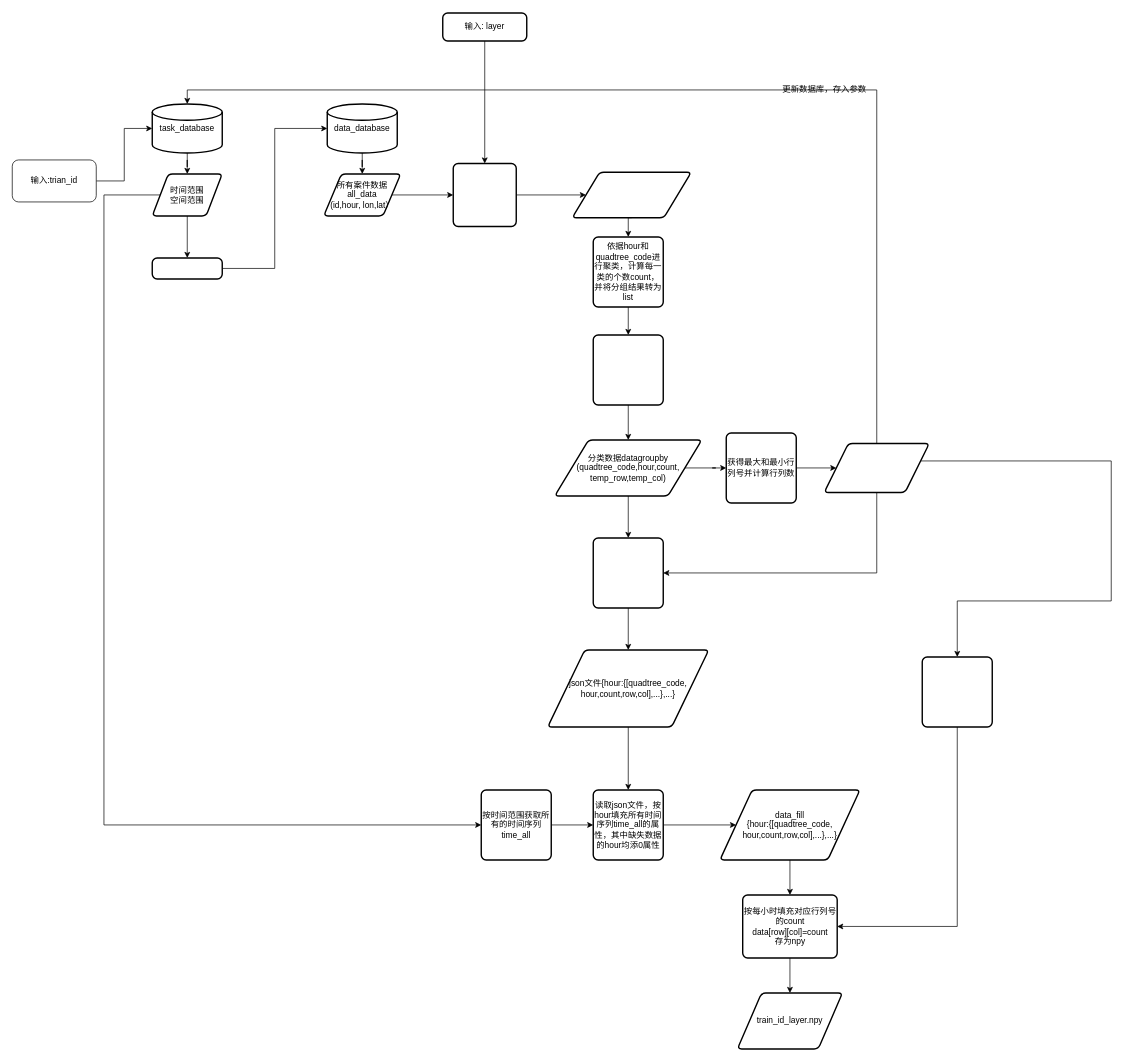
This 1129x1061 diagram has some shape labels left out. The centre of each missing label's shape, as x and y in pixels:
所有案件数据alldata (id,hour,lon,lat, quadtree_code): pixel 631 194
按layer对alldata进行四叉树编码: pixel 484 194
按时间序列time_all中的小时数length,行数r_num,列数c_num初始化0矩阵 data_matrix: pixel 957 691
改变数据中的行列号属性使其从0开始，并对其按时间进行排序，按时间存入json: pixel 628 572
最小行号r_min, 最小列号c_min， 行数r_num, 列数c_num: pixel 876 467
构建查询语句: pixel 187 268
根据四叉树编码获得每一类的行号temp_row和列号temp_col,并将属性添加至list: pixel 628 369
